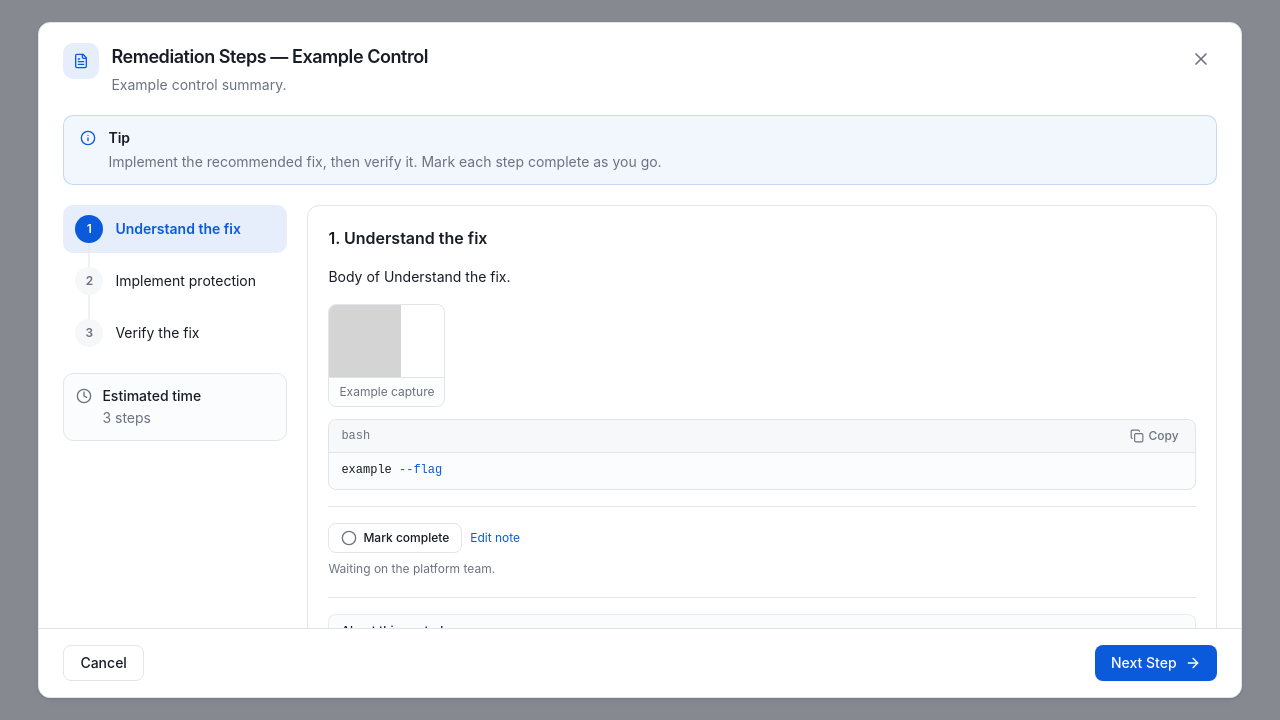
Scenario: developer notes › open with the note already recorded against the step
What coordinates should you click on to do the following:
click the button "Edit note"
I would click on:
 (495, 538)
Its box is [470, 530, 520, 546].
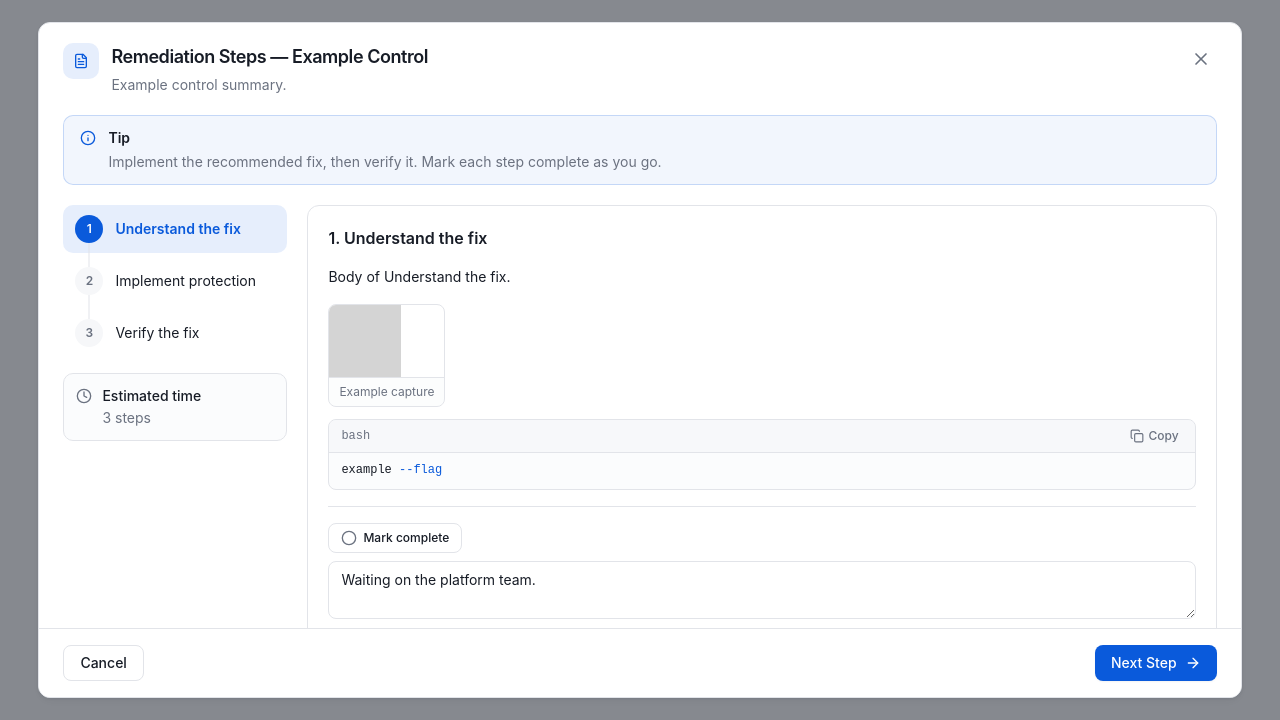
Result: the text box named "Note for step 1" holds "Waiting on the platform team." at [328, 561, 1196, 619]
